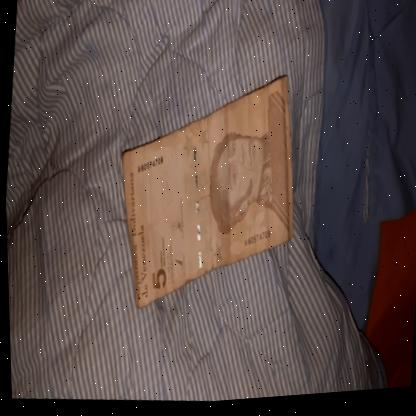vef_front: (104, 64, 308, 325)
